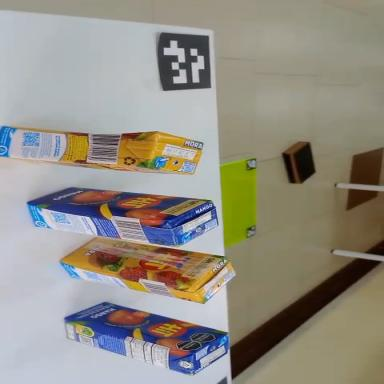HIT-MANGO: (59, 293, 232, 383), (25, 182, 220, 251)
HIT-MORA: (57, 231, 237, 308), (0, 126, 204, 175)
